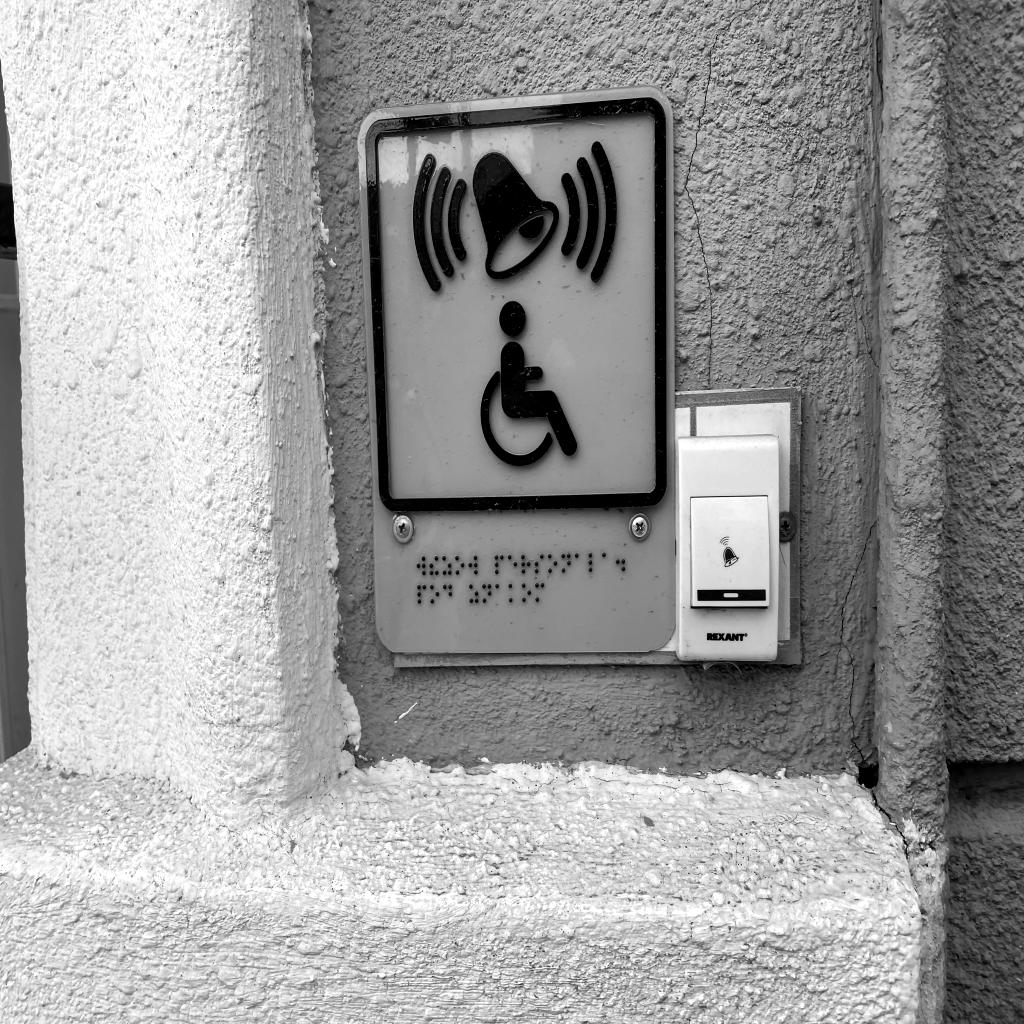_n: (481, 583, 492, 604), (561, 552, 571, 574)
a: (575, 552, 585, 573), (601, 551, 611, 572), (495, 583, 505, 603)
d: (442, 584, 453, 605)
e: (508, 554, 518, 575)
ii: (429, 555, 439, 575)
k: (508, 582, 518, 604)
l: (588, 552, 599, 573)
m: (535, 582, 545, 602)
o: (430, 584, 440, 605), (521, 582, 531, 603), (455, 555, 465, 575), (548, 554, 558, 574)
p: (494, 554, 504, 575), (417, 584, 427, 604)
r: (520, 554, 531, 574)
s: (534, 553, 544, 574)
tochka: (615, 551, 626, 572)
v: (416, 555, 426, 576), (468, 555, 478, 576)
z: (441, 555, 452, 576), (469, 583, 479, 605)
